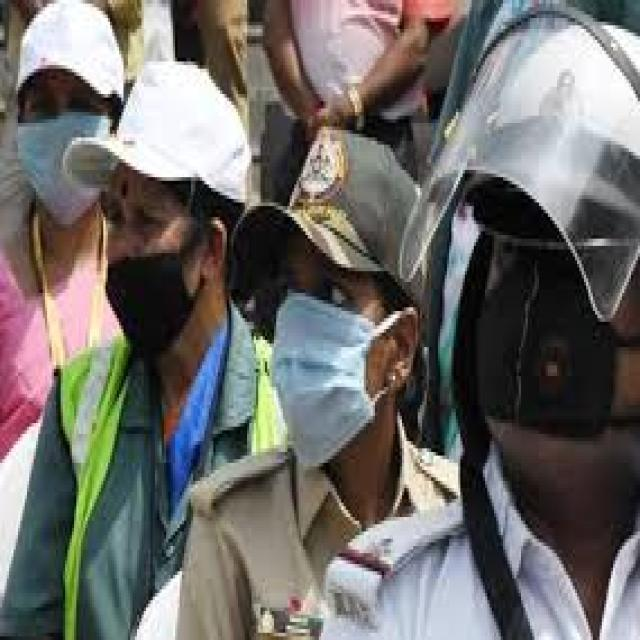cap: (218, 123, 451, 372), (58, 54, 256, 271), (9, 0, 126, 148)
